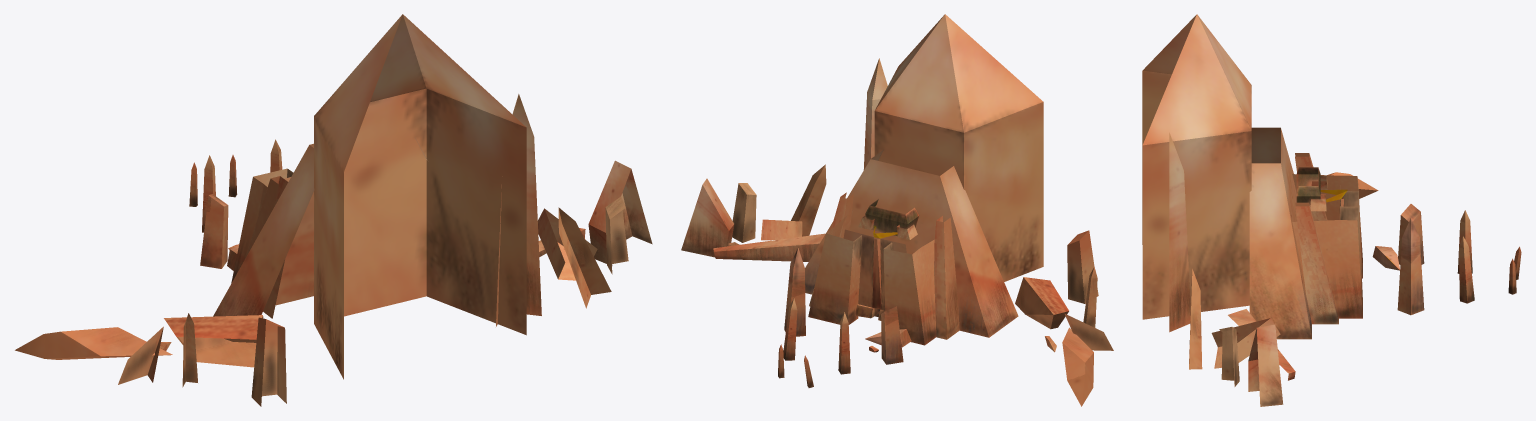
File: temple_mesh.fbx
3 renders of one model, left to right at view 1: azimuth 30°, elevation 25°; view 2: azimuth 150°, elevation 25°; view 3: azimuth 270°, elevation 25°, orthographic. The views are drawn at different scales.
Parts seen in each view (by area): view 1: ruinedzigg:temple; view 2: ruinedzigg:temple; view 3: ruinedzigg:temple.
Boxes of the visible parts, x1=… form: ruinedzigg:temple: x1=15, y1=14, x2=652, y2=406; ruinedzigg:temple: x1=681, y1=14, x2=1113, y2=406; ruinedzigg:temple: x1=1142, y1=14, x2=1521, y2=406.
Size of the model in its own units: 22.86 by 13.48 by 15.76.
